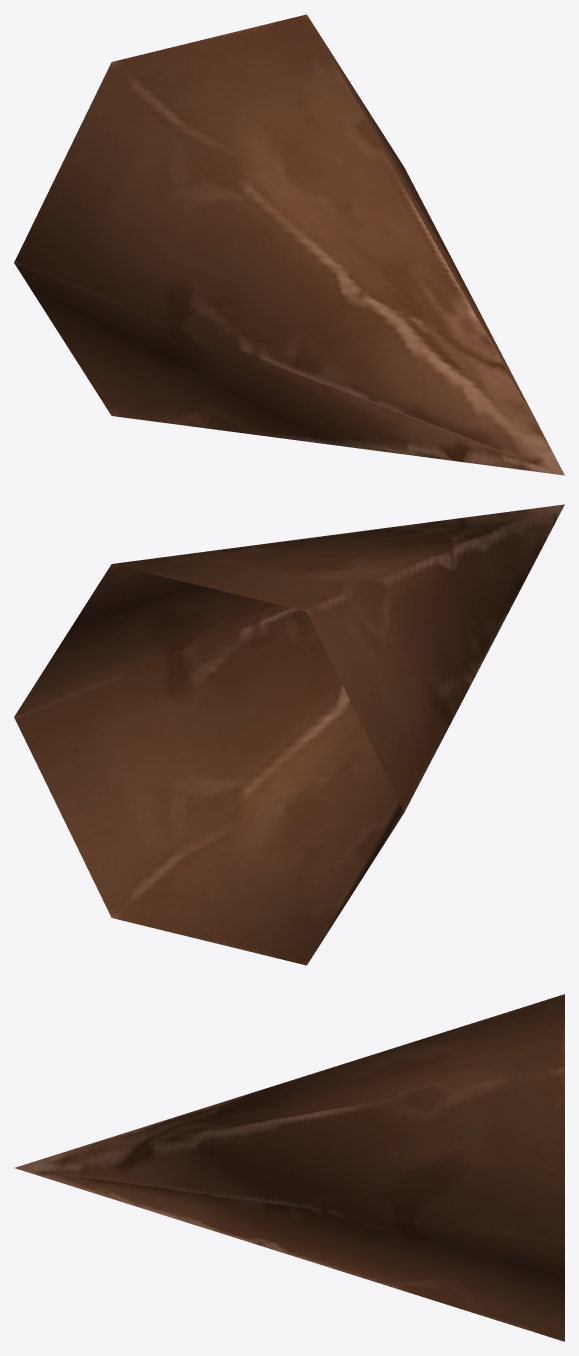
The model's file is sn_jiguan_chilun_003.FBX.
The picture shows the model from 3 angles, top to bottom: view 1: azimuth 30°, elevation 25°; view 2: azimuth 150°, elevation 25°; view 3: azimuth 270°, elevation 25°; orthographic projection. The views are drawn at different scales.
Visible parts, largest first — view 1: sn_jiguan_chilun_003; view 2: sn_jiguan_chilun_003; view 3: sn_jiguan_chilun_003.
Part boxes in pixels (box(x1,y1,x2,y2)): sn_jiguan_chilun_003: box(14, 14, 564, 475); sn_jiguan_chilun_003: box(14, 504, 564, 965); sn_jiguan_chilun_003: box(15, 994, 564, 1341).
Size of the model in its own units: 130 by 112 by 204.
